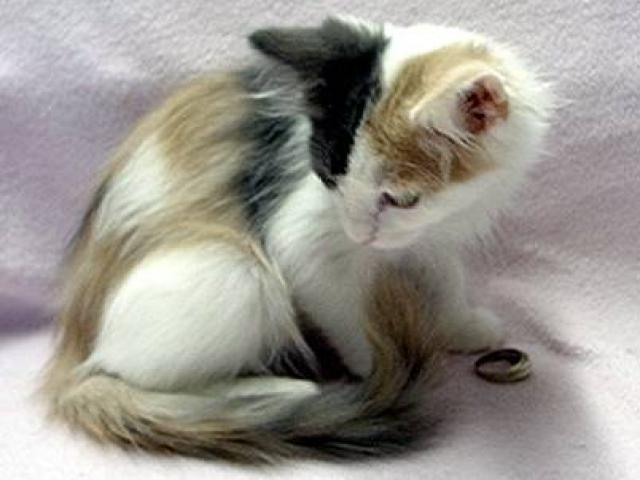cat: (35, 16, 557, 467)
